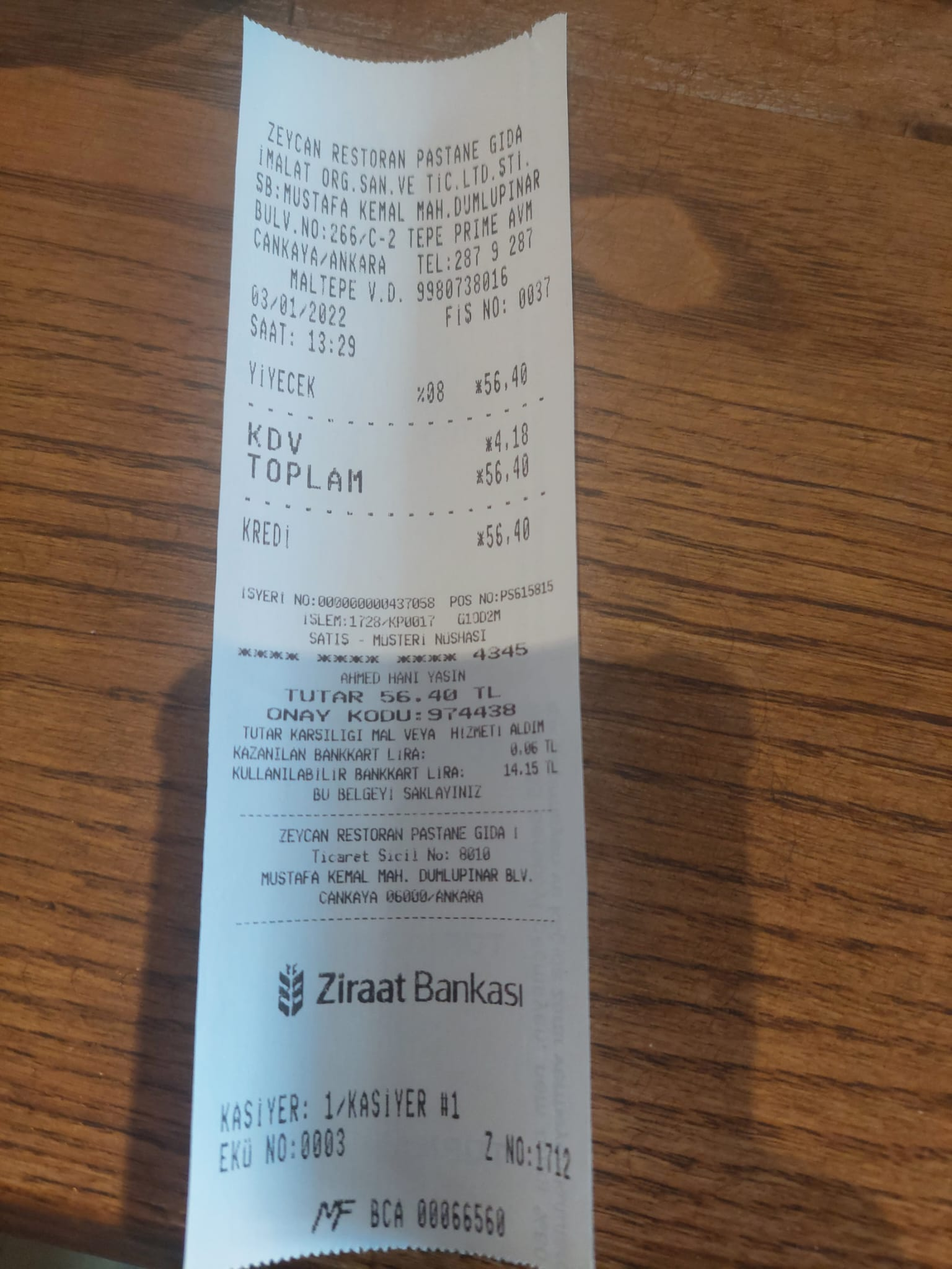date: (375, 684, 516, 705)
price: (245, 283, 351, 330)
workplace: (249, 113, 557, 271)
